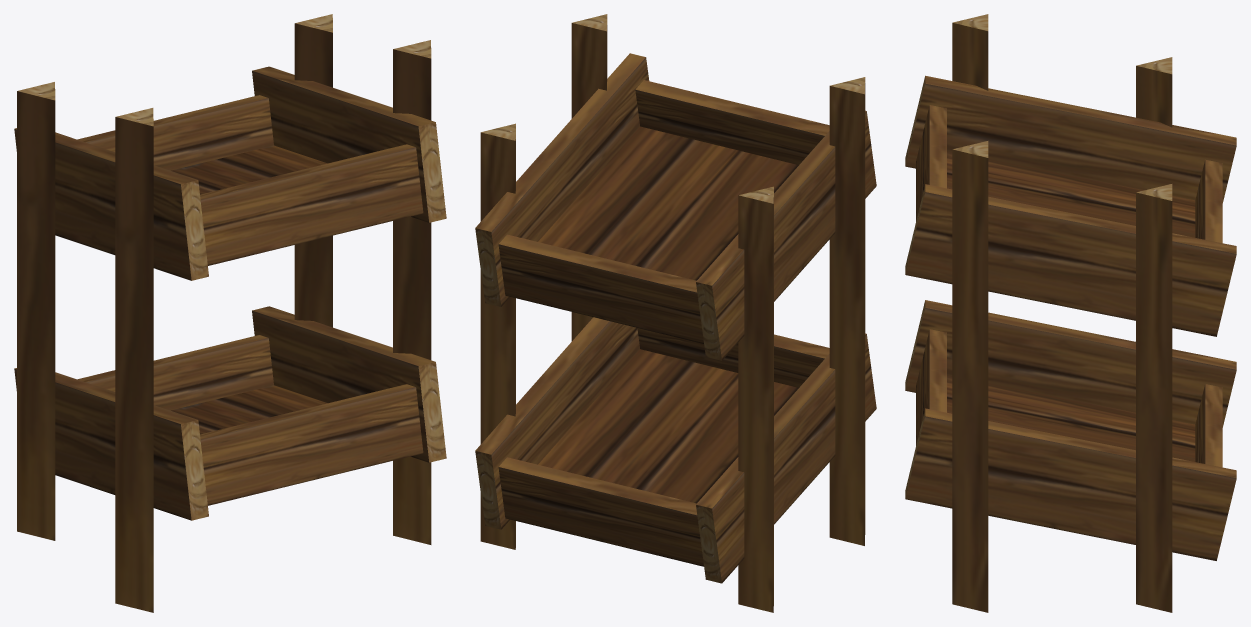
Rendered from Rack03.fbx.
The picture shows the model from 3 angles, left to right: view 1: azimuth 30°, elevation 25°; view 2: azimuth 150°, elevation 25°; view 3: azimuth 270°, elevation 25°; orthographic projection. The views are drawn at different scales.
Visible parts, largest first — view 1: Rack03; view 2: Rack03; view 3: Rack03.
Boxes of the visible parts, x1=… form: Rack03: x1=14, y1=14, x2=446, y2=612; Rack03: x1=475, y1=14, x2=876, y2=612; Rack03: x1=905, y1=14, x2=1236, y2=612.
Size of the model in its own units: 2.14 by 3.15 by 2.08.
